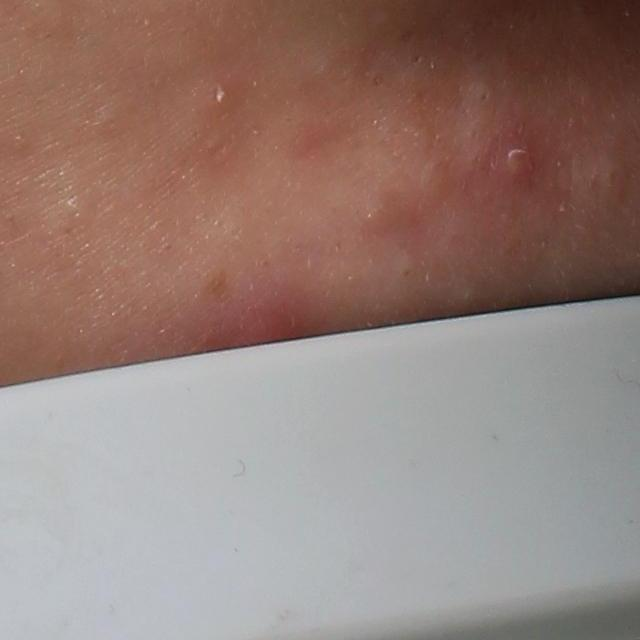comedo: (475, 86, 497, 105)
